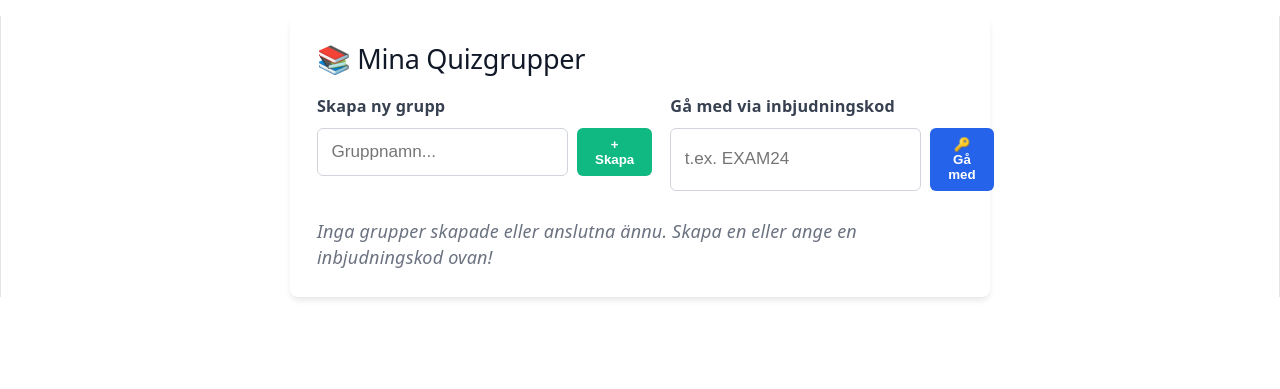
Test case: GroupDashboard Component › should show error message when create fails
Type "Dubblett" into the field with placeholder "Gruppnamn...".
click(442, 152); type("Dubblett")  # box [317,128,568,176]
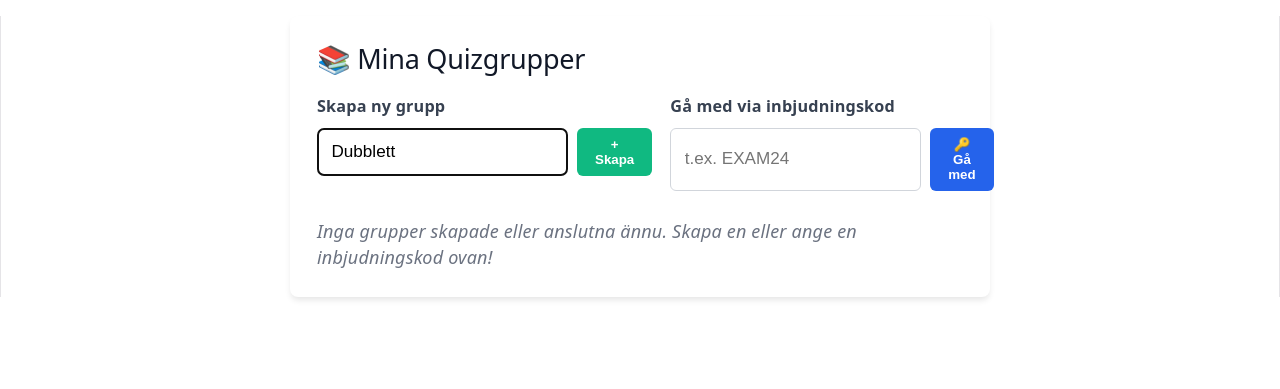
Click the button "+ Skapa".
click(615, 152)  # box [577,128,652,176]
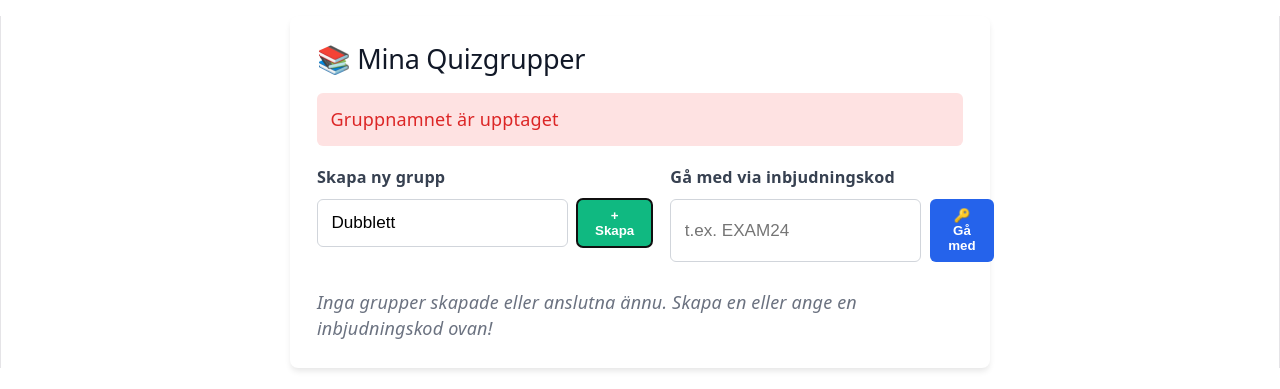
Result: the text "Gruppnamnet är upptaget" is shown at [317,93,963,146]
